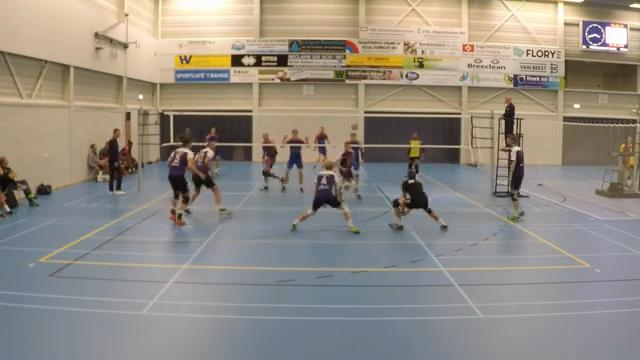ricezione: (384, 168, 451, 233)
